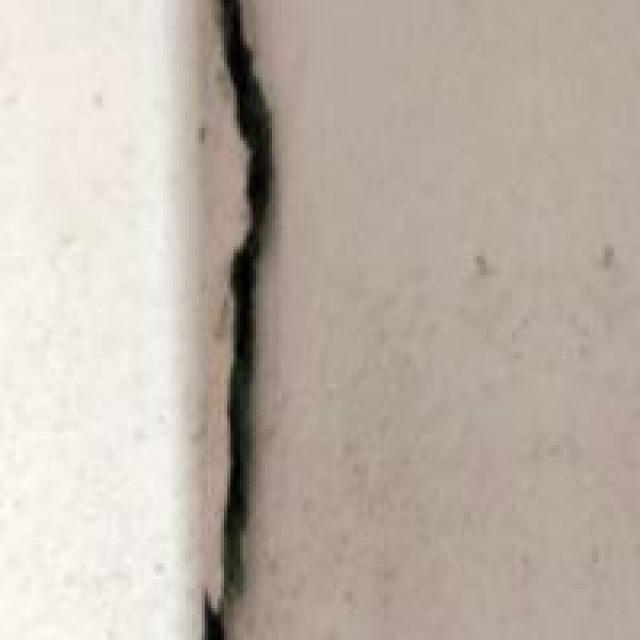crack: (132, 0, 390, 637)
